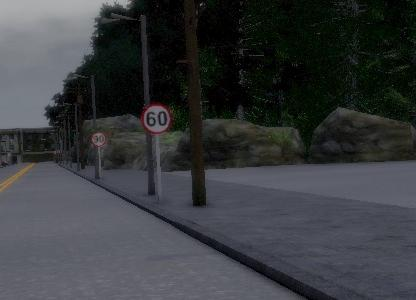Speed_60: (138, 101, 172, 136)
